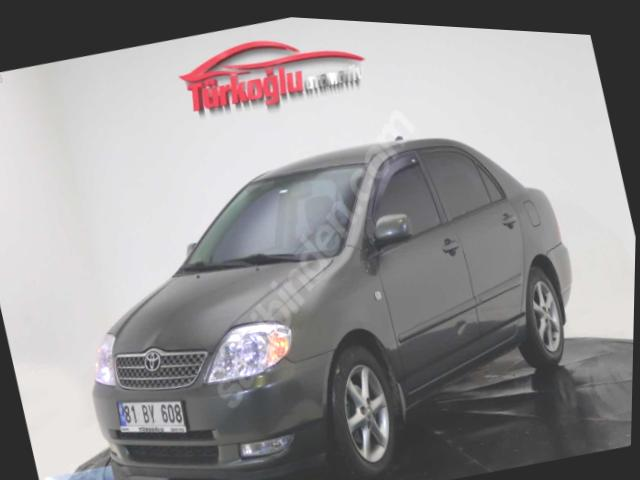plaka: (119, 401, 186, 432)
